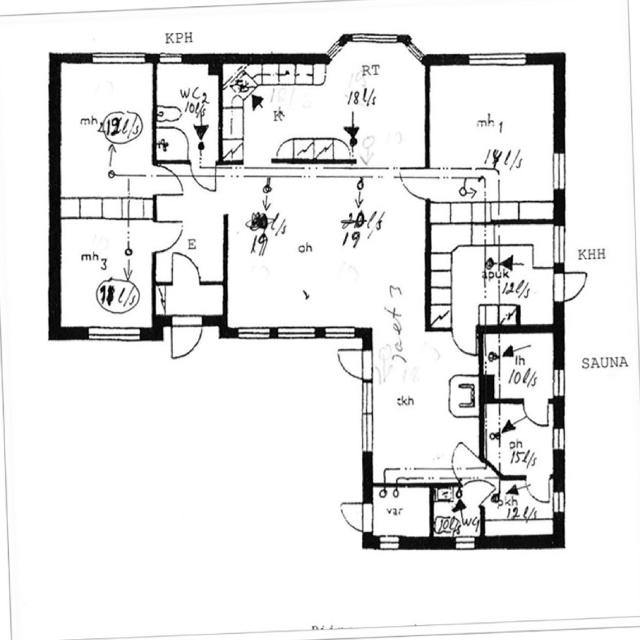door: (156, 219, 195, 286), (166, 316, 206, 362), (449, 436, 482, 482), (550, 268, 592, 304), (332, 346, 375, 380), (337, 500, 376, 534), (168, 249, 203, 286), (151, 219, 187, 253), (449, 323, 482, 358), (397, 167, 430, 201), (152, 166, 186, 198), (520, 396, 550, 427), (524, 475, 553, 505), (190, 164, 219, 194)
window: (356, 383, 378, 458), (464, 50, 532, 71), (83, 323, 146, 345), (88, 49, 147, 67), (550, 147, 570, 195), (348, 31, 402, 48), (274, 323, 322, 342), (550, 223, 568, 269), (235, 325, 275, 342), (550, 366, 567, 401), (323, 324, 359, 340), (325, 38, 346, 59), (406, 42, 428, 62), (376, 534, 403, 550), (552, 489, 568, 516), (156, 51, 186, 65), (452, 535, 478, 551), (552, 425, 566, 453)
zone: (226, 165, 424, 330), (427, 59, 559, 221), (221, 60, 425, 162), (366, 328, 479, 479), (57, 59, 153, 208), (427, 225, 560, 328), (55, 210, 152, 330), (153, 63, 218, 162), (481, 329, 558, 400), (482, 402, 556, 475), (484, 477, 557, 538), (162, 280, 214, 360), (369, 484, 432, 539), (432, 481, 484, 539), (155, 282, 228, 319)
